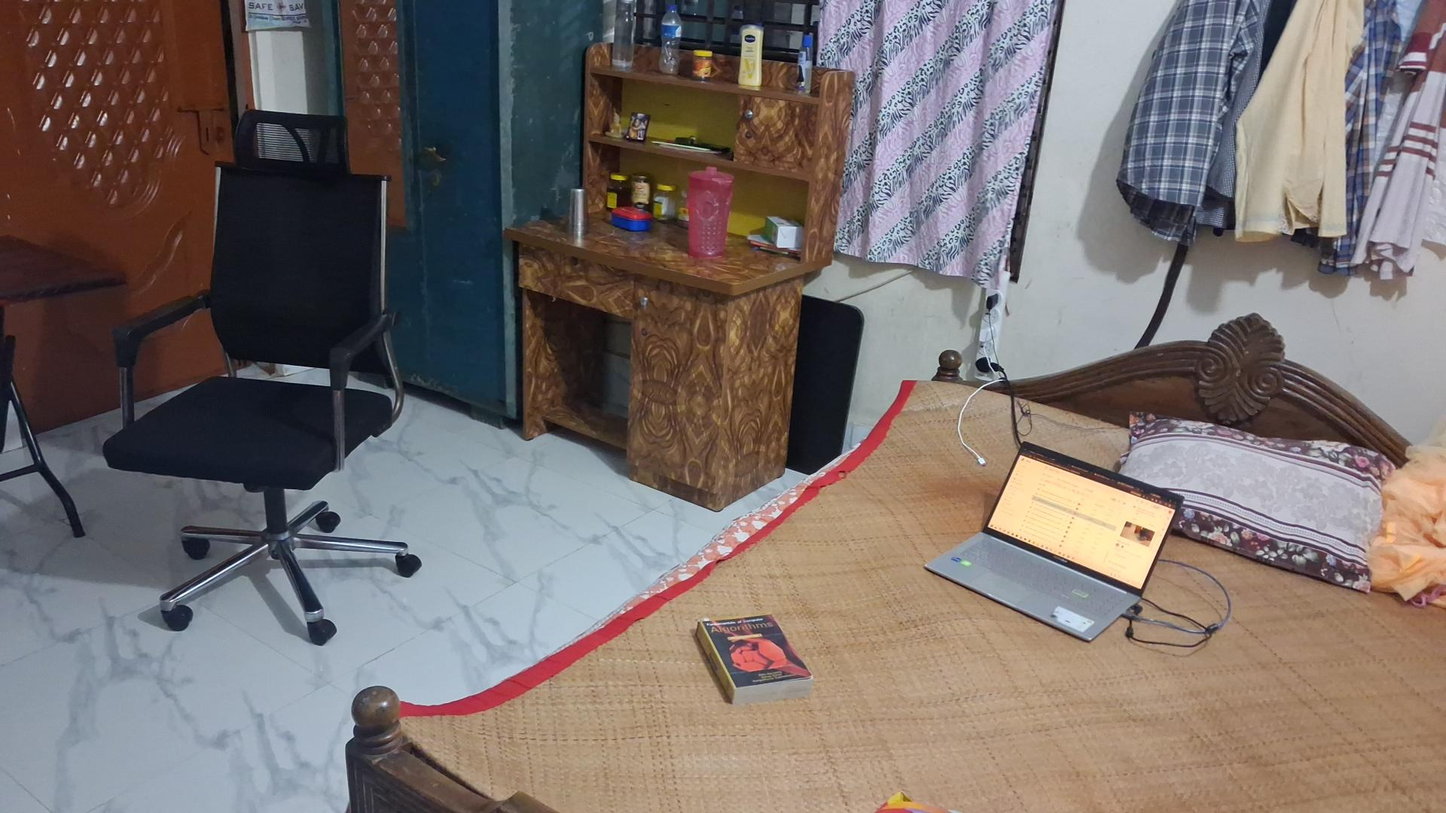Book: (697, 614, 813, 702)
Bottle: (738, 21, 765, 88), (612, 1, 637, 71), (659, 4, 682, 73), (794, 35, 813, 92)
Box: (761, 209, 803, 250)
Chair: (101, 161, 423, 643), (344, 686, 556, 811)
Glass: (560, 183, 592, 239)
Jar: (610, 200, 653, 234), (652, 182, 678, 225), (603, 169, 628, 211), (687, 47, 716, 81), (629, 171, 651, 209)
Jug: (683, 167, 733, 261)
Laptop: (922, 440, 1183, 643)
Pillow: (1110, 390, 1389, 595)
